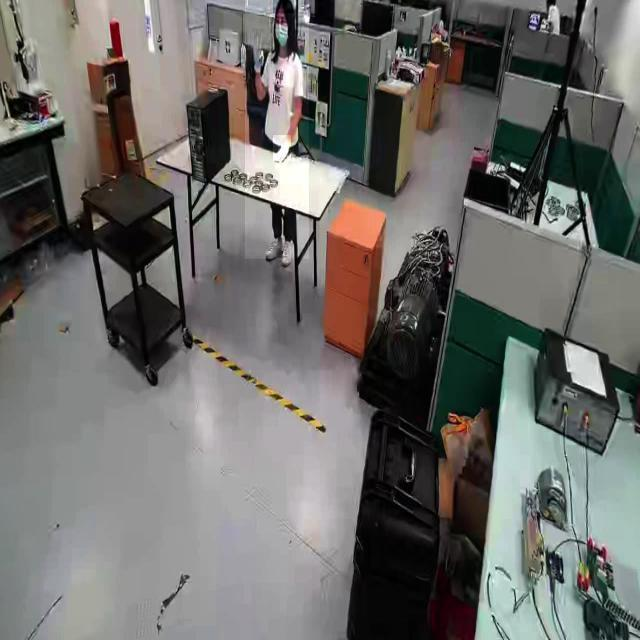boots: (280, 236, 296, 269), (266, 232, 280, 265)
gloves: (252, 28, 265, 80), (272, 135, 292, 162)
